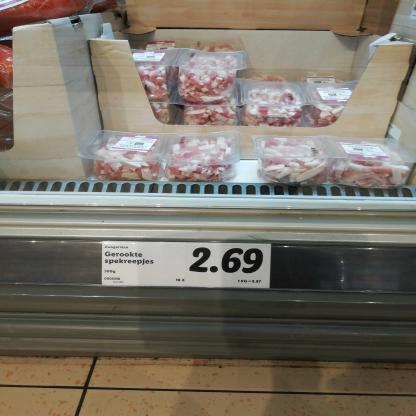prtg: (103, 242, 272, 290)
